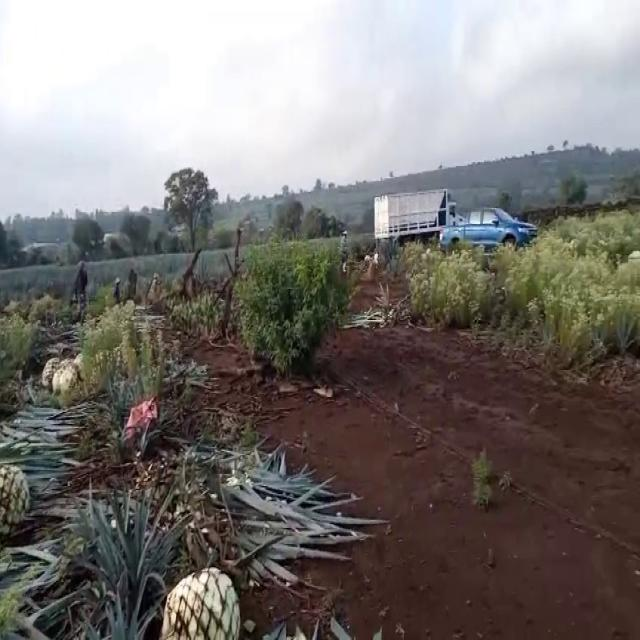agave: (147, 560, 247, 640), (0, 463, 40, 531), (39, 350, 58, 388), (71, 353, 87, 374), (51, 368, 64, 392), (59, 371, 72, 392), (61, 354, 75, 371)
